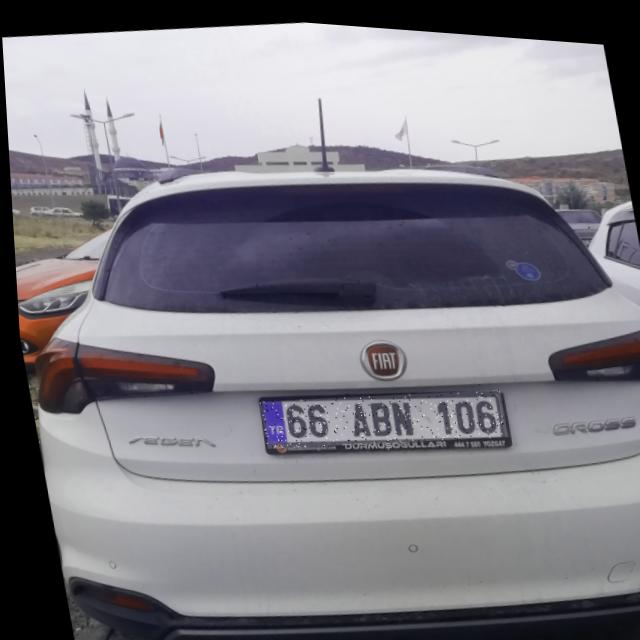license_plate: (253, 367, 507, 459)
